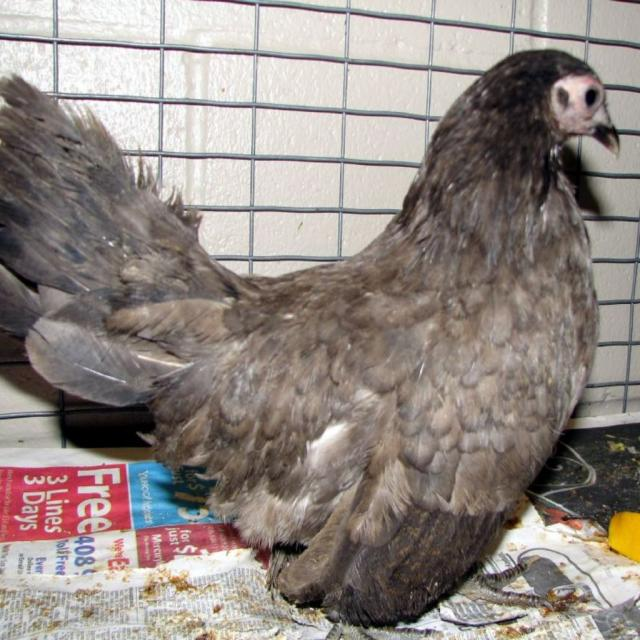Chicken: (28, 30, 606, 640)
